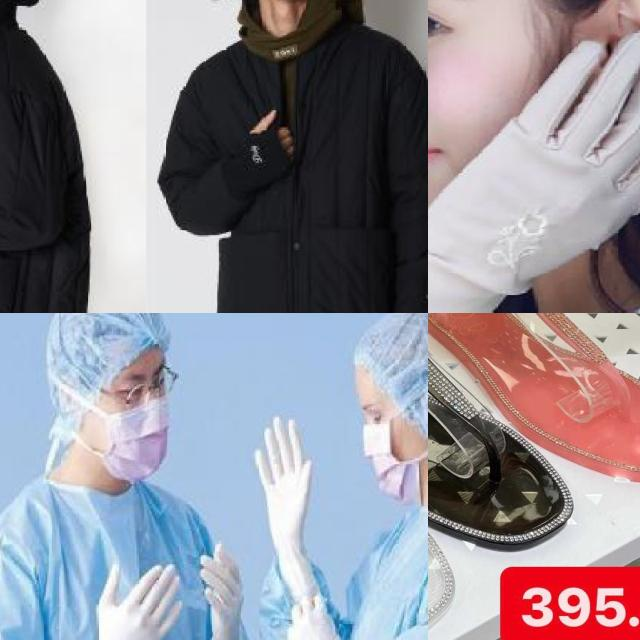Sandals: (428, 313, 640, 492), (428, 313, 584, 556), (428, 313, 477, 640)
face_mask: (78, 352, 184, 472), (341, 382, 426, 506)
face_nomask: (428, 0, 554, 239)
glasses: (112, 365, 182, 409)
hand_glove: (428, 28, 640, 307), (250, 411, 314, 554), (92, 558, 181, 640), (237, 108, 296, 188), (198, 540, 242, 640), (281, 586, 338, 640)
head_nohelmet: (25, 313, 185, 373), (327, 313, 428, 392)
person: (0, 313, 264, 640), (169, 0, 428, 313), (241, 313, 428, 640), (0, 0, 106, 313)
